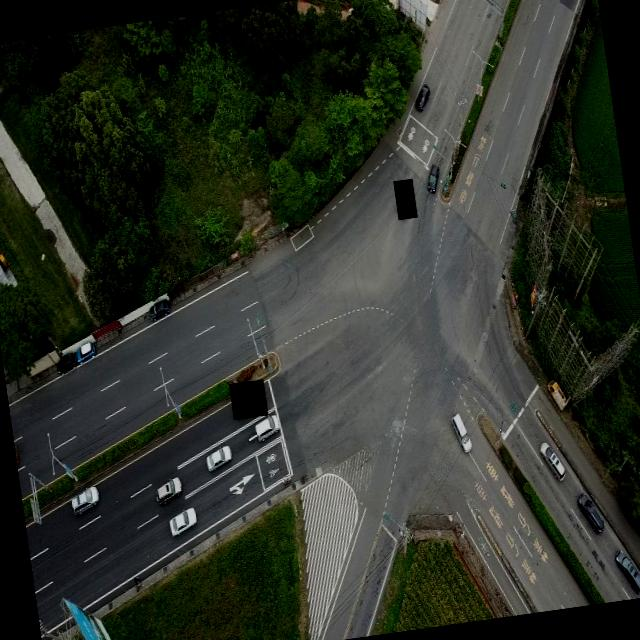car: (576, 490, 606, 536), (539, 438, 567, 482), (614, 548, 640, 595), (69, 484, 103, 518), (167, 506, 198, 536), (451, 412, 473, 454), (153, 476, 183, 506), (252, 412, 281, 442), (205, 444, 232, 473), (73, 338, 97, 366), (148, 296, 174, 320), (412, 84, 432, 112), (424, 162, 442, 193), (56, 352, 76, 374)
